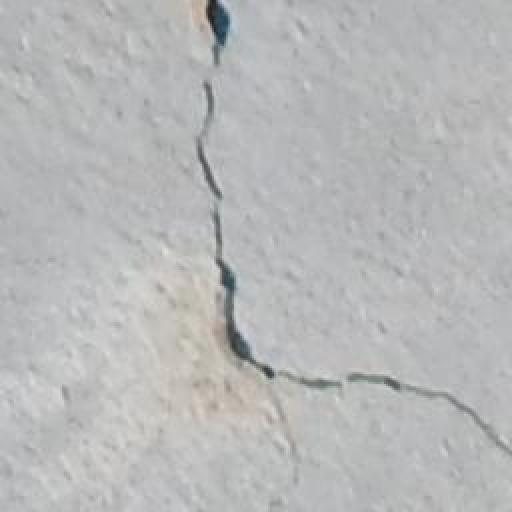spalling: (161, 5, 505, 485)
